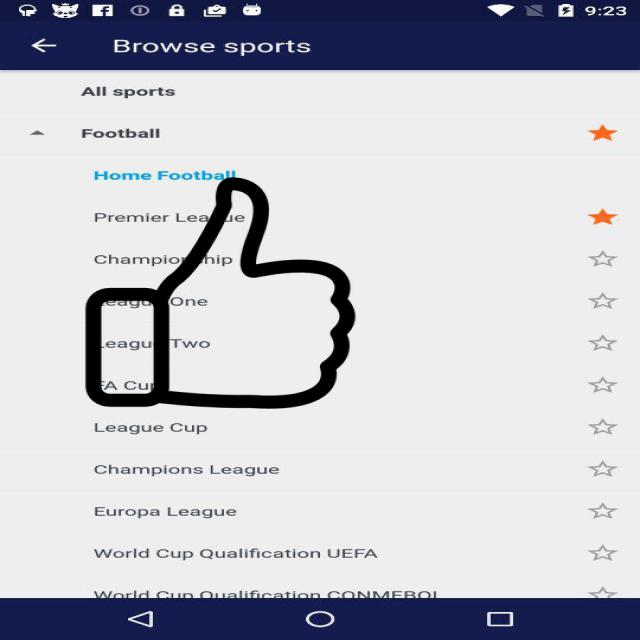privacy zuckering: (82, 177, 359, 409)
